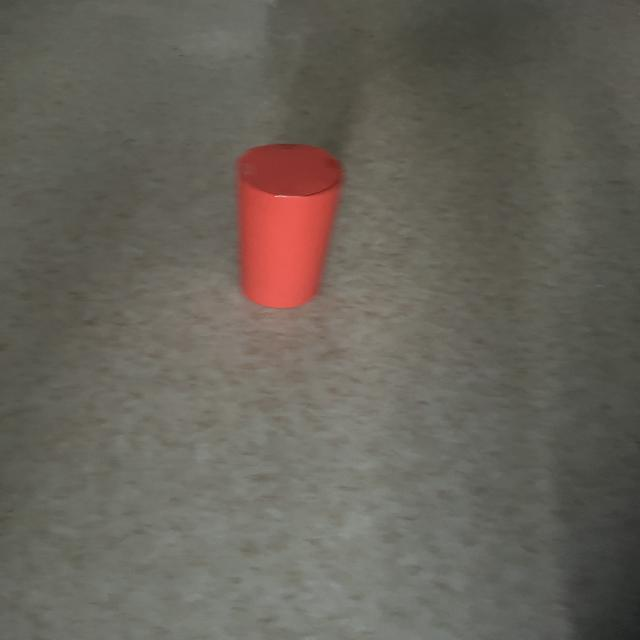przeszkoda: (237, 144, 342, 308)
